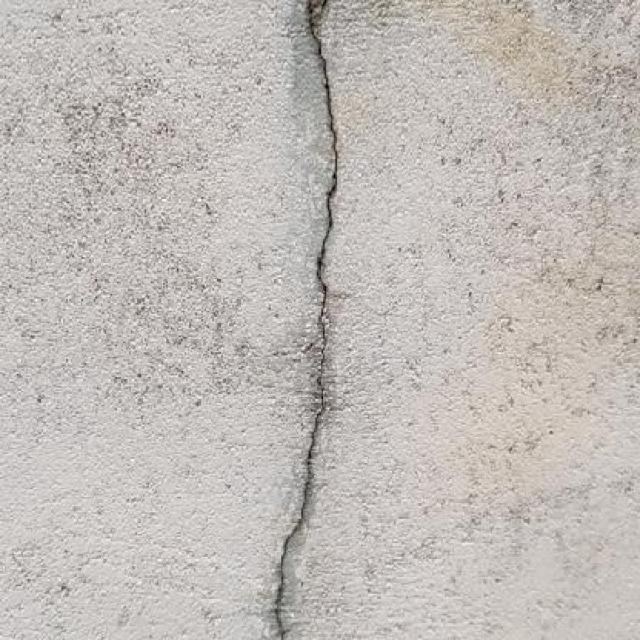vertical crack: (276, 2, 337, 640)
